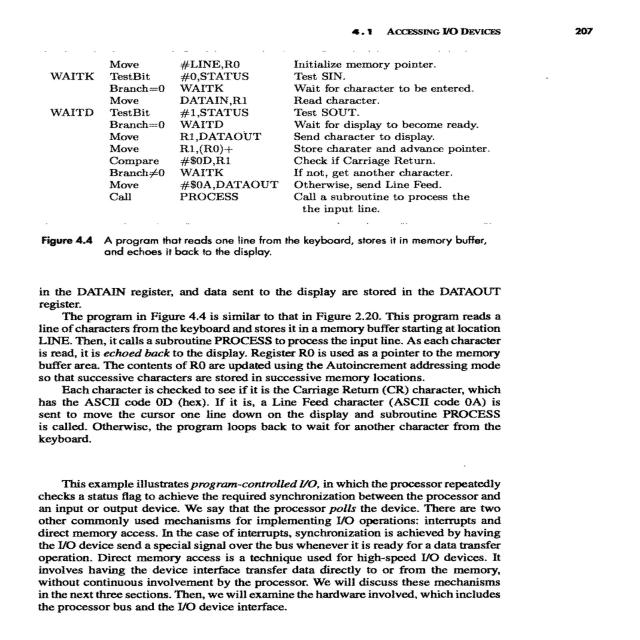diagram: (25, 40, 563, 274), (639, 147, 640, 183), (639, 191, 640, 193)
